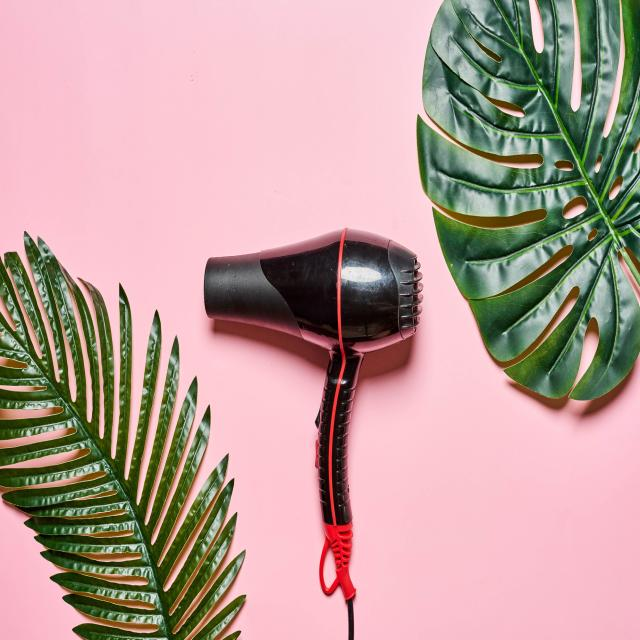dryer: (202, 224, 424, 604)
